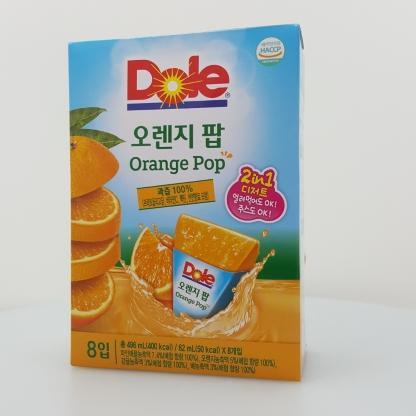--------496ML: (68, 24, 307, 381)
